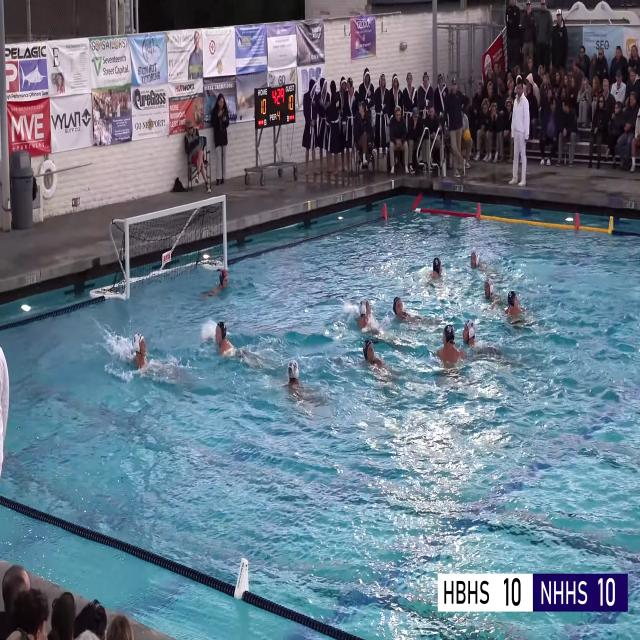ball: (464, 129, 471, 142)
